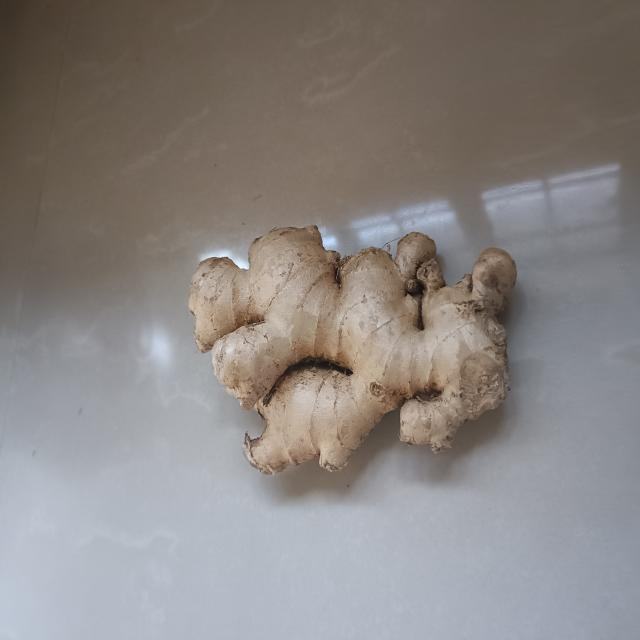ginger: (182, 220, 525, 481)
